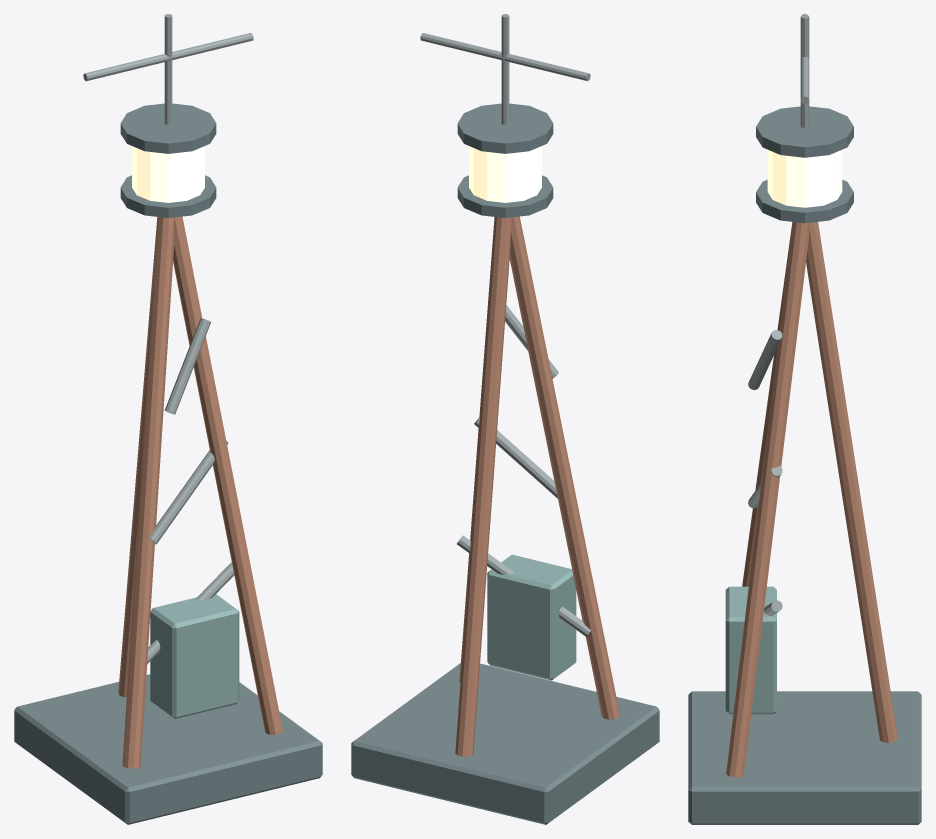
The model's file is signal_beacon.glb.
The picture shows the model from 3 angles, left to right: view 1: azimuth 30°, elevation 25°; view 2: azimuth 150°, elevation 25°; view 3: azimuth 270°, elevation 25°; orthographic projection. The views are drawn at different scales.
Visible parts, largest first — view 1: signal_beacon; view 2: signal_beacon; view 3: signal_beacon.
Part boxes in pixels (x1,y1,x2,y2): signal_beacon: (14, 14, 322, 824); signal_beacon: (351, 14, 659, 824); signal_beacon: (688, 14, 921, 824).
Size of the model in its own units: 1 by 3.6 by 1.
